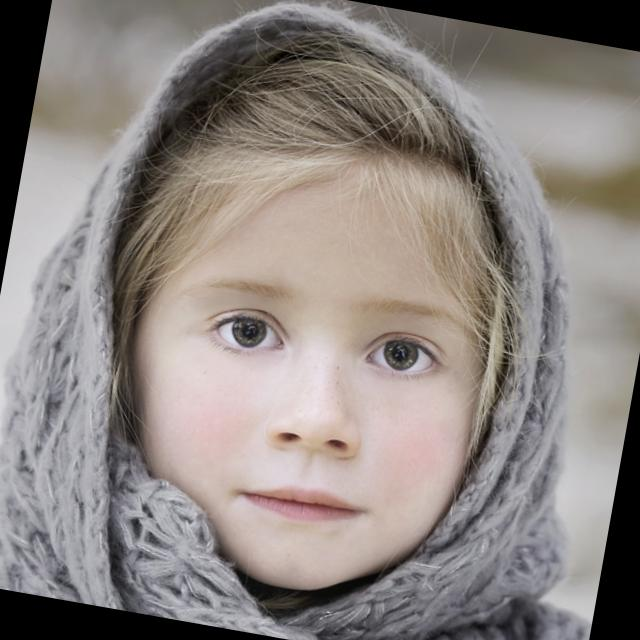face: (44, 0, 601, 630)
